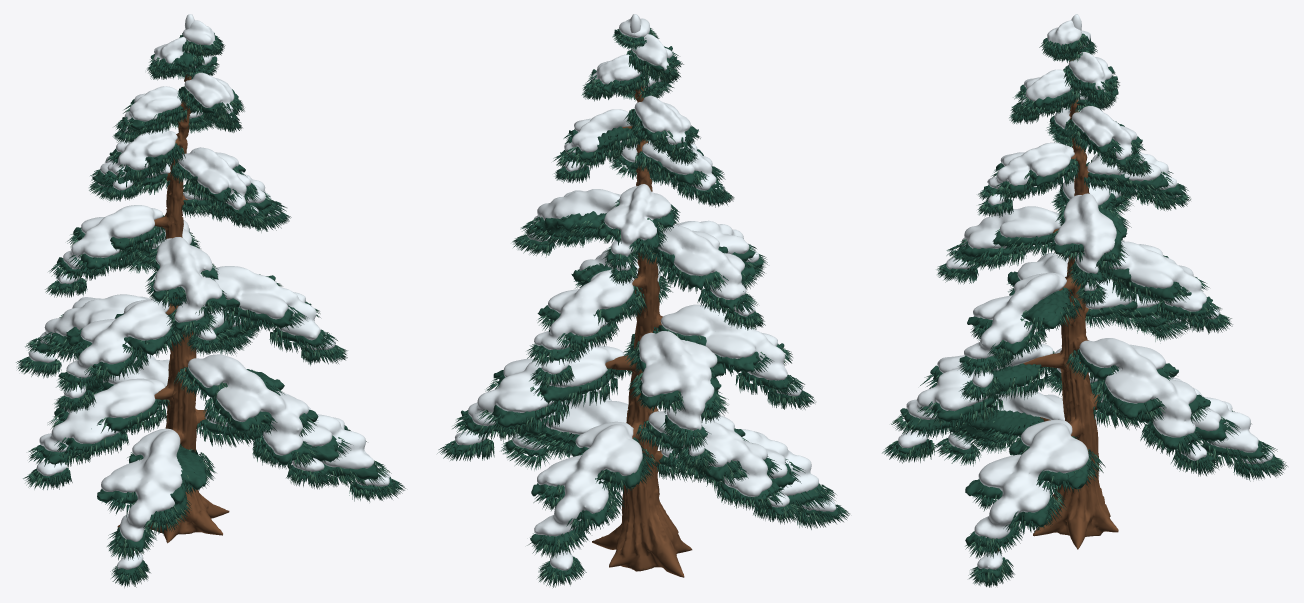
File: hero-spruce.glb
3 views of the same model, side by side, from view 1: azimuth 30°, elevation 25°; view 2: azimuth 150°, elevation 25°; view 3: azimuth 270°, elevation 25° (orthographic). The views are drawn at different scales.
Parts seen in each view (by area): view 1: Hero spruce • material batched export; view 2: Hero spruce • material batched export; view 3: Hero spruce • material batched export.
Boxes of the visible parts, x1=… form: Hero spruce • material batched export: x1=16, y1=14, x2=405, y2=587; Hero spruce • material batched export: x1=437, y1=14, x2=849, y2=587; Hero spruce • material batched export: x1=882, y1=14, x2=1287, y2=587.
Size of the model in its own units: 6.05 by 8.97 by 6.39.
